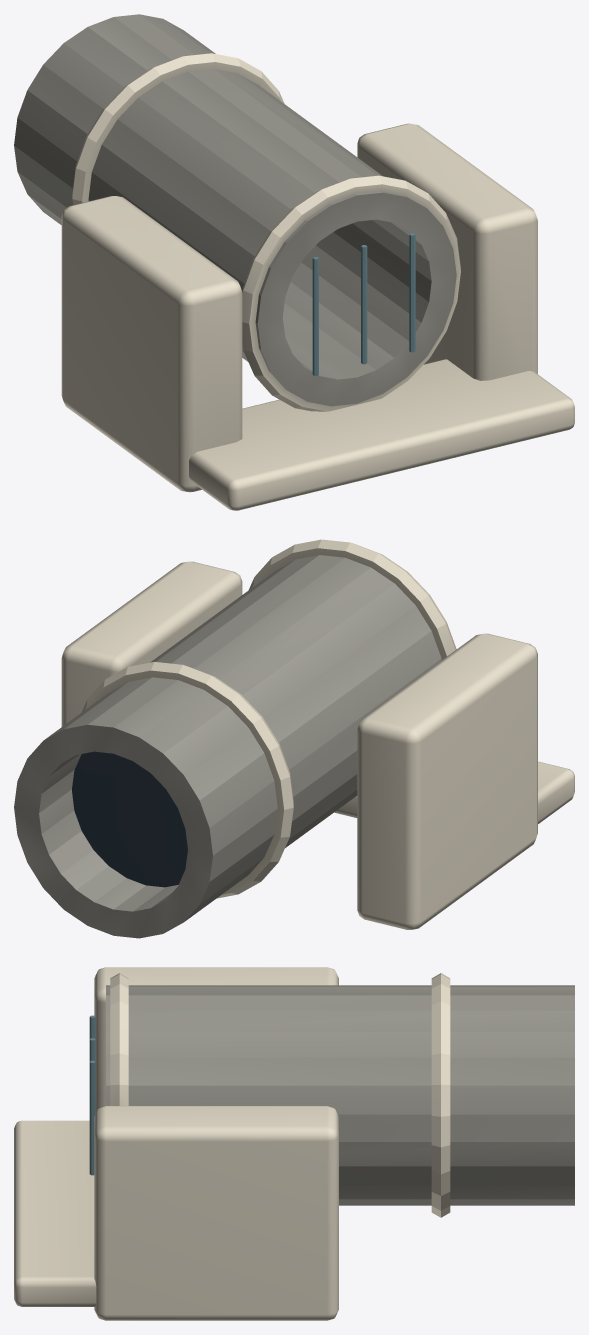
The model's file is river-outfall.glb.
3 renders of one model, top to bottom at view 1: azimuth 30°, elevation 25°; view 2: azimuth 150°, elevation 25°; view 3: azimuth 270°, elevation 25°, orthographic. The views are drawn at different scales.
Parts seen in each view (by area): view 1: pipe socket collar, concrete outfall, coarse debris screen; view 2: concrete outfall, pipe socket collar, recessed pipe shadow; view 3: pipe socket collar, concrete outfall, coarse debris screen.
Boxes of the visible parts, x1,y1,x2,y2 form: pipe socket collar: (61, 53, 574, 510); concrete outfall: (14, 14, 456, 406); coarse debris screen: (312, 233, 415, 375); concrete outfall: (14, 555, 441, 938); pipe socket collar: (61, 539, 574, 929); recessed pipe shadow: (72, 751, 187, 887); pipe socket collar: (14, 967, 450, 1320); concrete outfall: (106, 985, 574, 1205); coarse debris screen: (89, 1015, 95, 1175).
Bounding box in the file's own units: 1.19 × 0.847 × 1.67.
